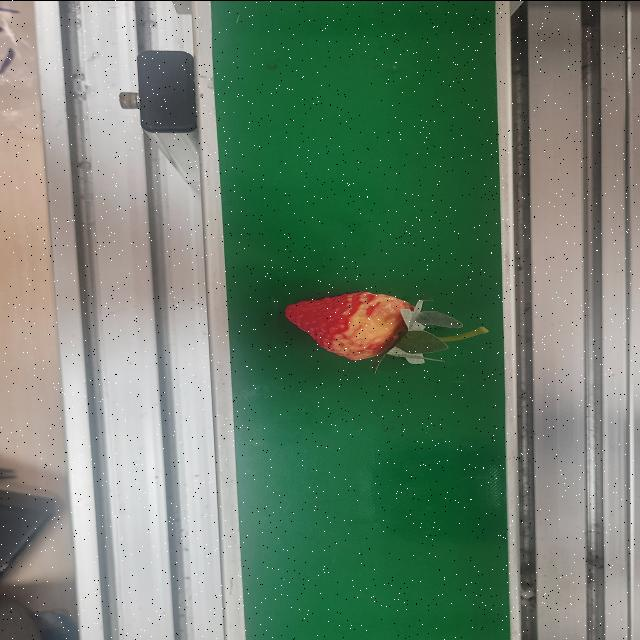Moldy Strawberry: (280, 282, 447, 360)
